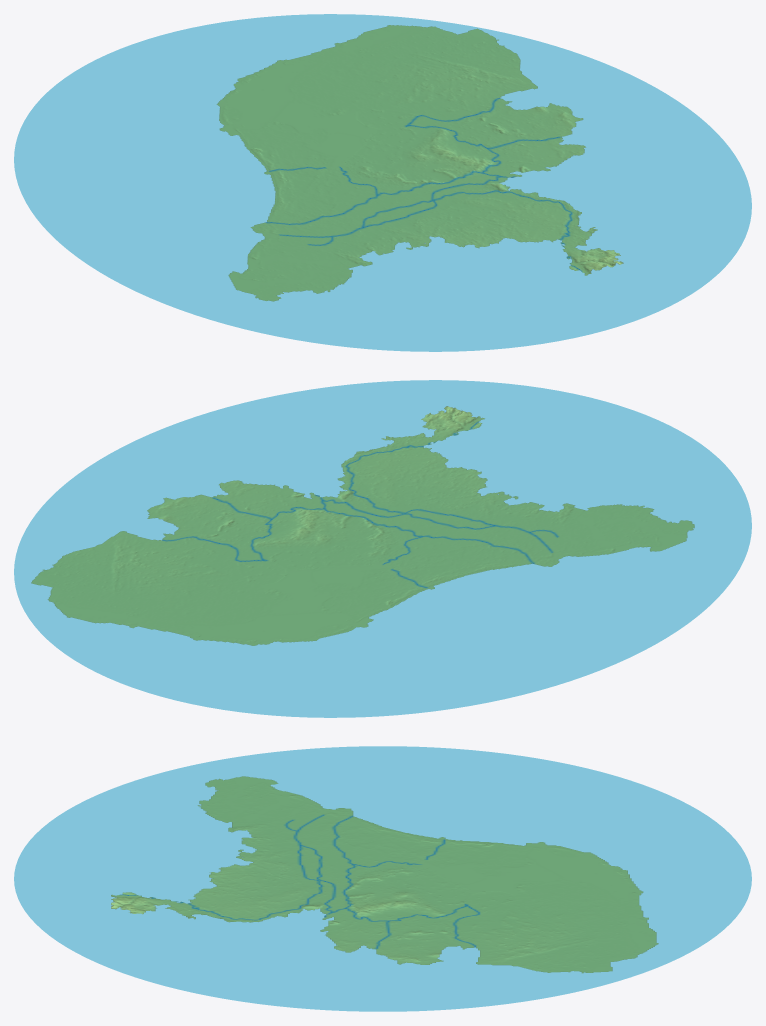
Rendered from NLD-terrain.glb.
The picture shows the model from 3 angles, top to bottom: view 1: azimuth 30°, elevation 25°; view 2: azimuth 150°, elevation 25°; view 3: azimuth 270°, elevation 25°; orthographic projection. The views are drawn at different scales.
Parts seen in each view (by area): view 1: Relevo com hidrografia; view 2: Relevo com hidrografia; view 3: Relevo com hidrografia.
Part boxes in pixels (x1,y1,x2,y2): Relevo com hidrografia: [14, 14, 751, 351]; Relevo com hidrografia: [14, 380, 751, 717]; Relevo com hidrografia: [14, 746, 751, 1011].
Bounding box in the file's own units: 1.84 × 0.0314 × 2.16.
2 materials, 1 textured.
